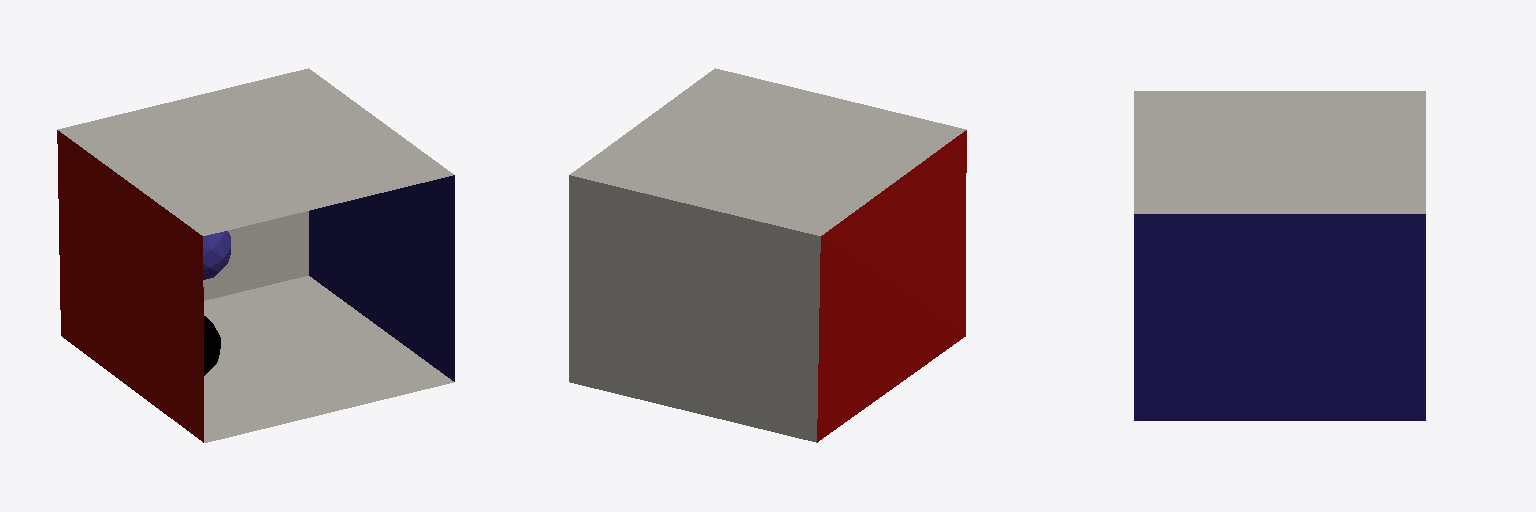
File: CornellBox-Sphere-747.obj
The picture shows the model from 3 angles: view 1: azimuth 30°, elevation 25°; view 2: azimuth 150°, elevation 25°; view 3: azimuth 270°, elevation 25°; orthographic projection.
Visible parts, largest first — view 1: ceiling, leftWall, floor, rightWall, backWall, leftSphere, rightSphere; view 2: backWall, ceiling, leftWall; view 3: rightWall, ceiling.
Part boxes in pixels (x1,y1,x2,y2): ceiling: (58,68,453,235); leftWall: (57,130,203,442); floor: (204,276,453,442); rightWall: (309,175,454,381); backWall: (203,211,308,300); leftSphere: (203,231,230,279); rightSphere: (204,316,220,375); backWall: (569,175,820,442); ceiling: (570,68,965,235); leftWall: (817,130,966,442); rightWall: (1134,214,1425,420); ceiling: (1134,91,1425,213).
Size of the model in its own units: 2.02 by 1.59 by 2.03.